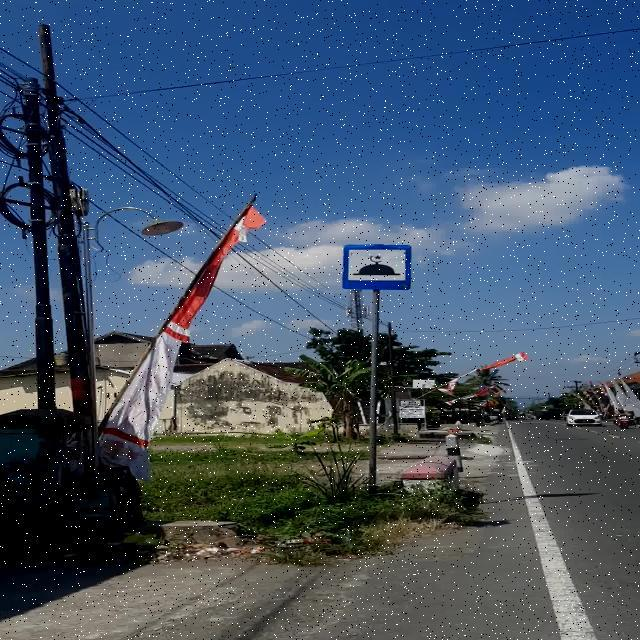Masjid: (343, 244, 411, 290)
